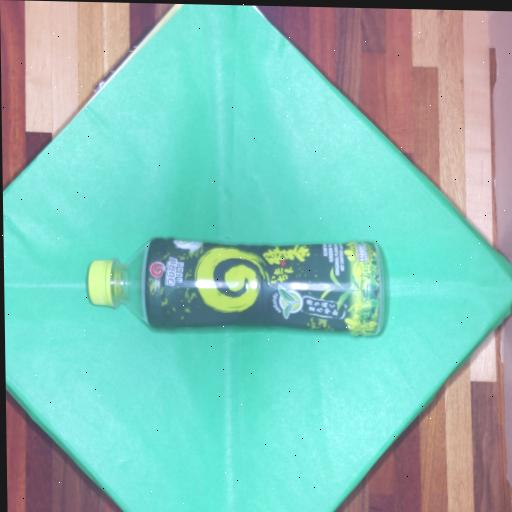bottle: (66, 204, 406, 350)
